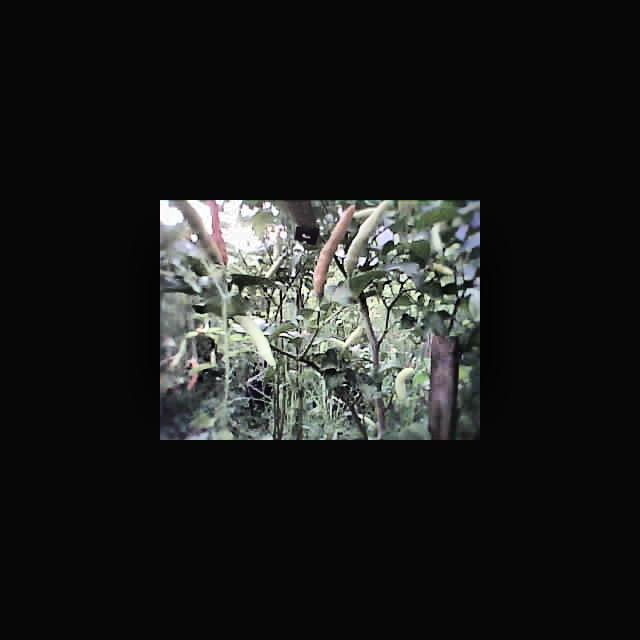Cabai: (308, 208, 354, 296), (207, 201, 236, 265)
